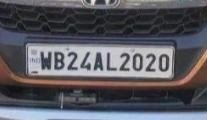0: (132, 48, 144, 74), (158, 50, 170, 74)
2: (117, 51, 132, 72), (66, 49, 80, 71), (144, 51, 157, 73)
4: (80, 49, 93, 72)
A: (93, 50, 106, 73)
B: (54, 48, 65, 71)
L: (105, 49, 119, 74)
W: (39, 49, 52, 72)
